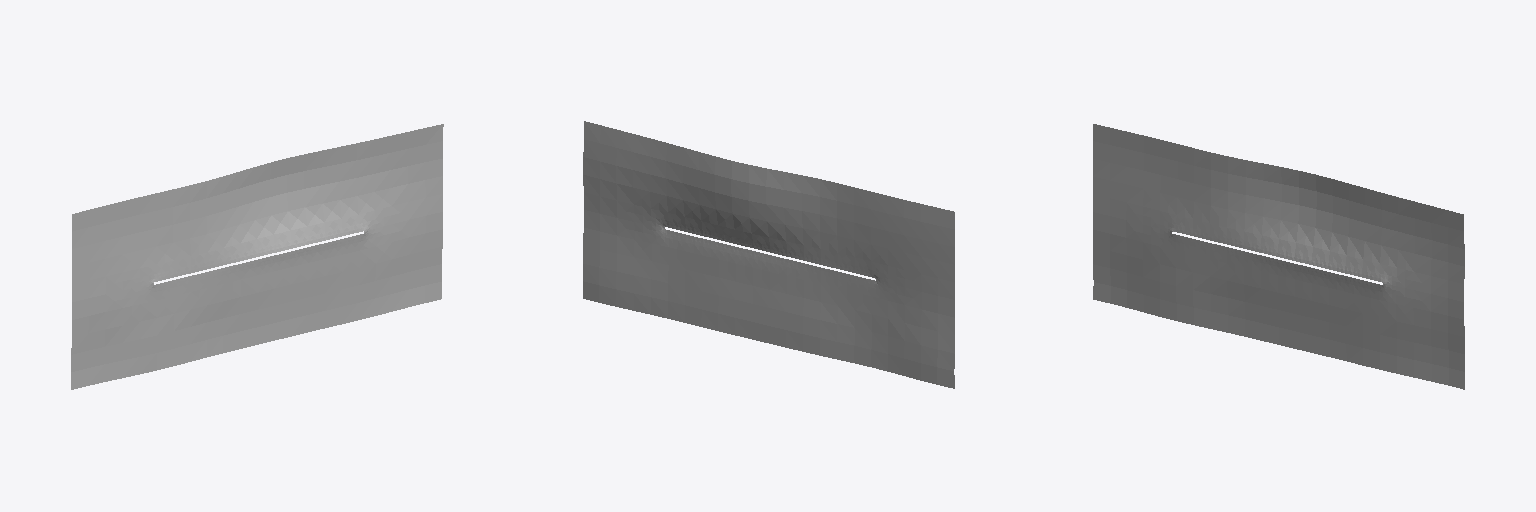
The model's file is basic_straight_road.obj.
3 renders of one model, left to right at view 1: azimuth 30°, elevation 25°; view 2: azimuth 150°, elevation 25°; view 3: azimuth 330°, elevation 25°, orthographic.
Visible parts, largest first — view 1: Background; view 2: Background; view 3: Background.
Part boxes in pixels (bbox=[...]): Background: bbox=[71, 124, 443, 389]; Background: bbox=[583, 121, 954, 388]; Background: bbox=[1093, 124, 1464, 389].
Bounding box in the file's own units: 880 × 400 × 23.18.